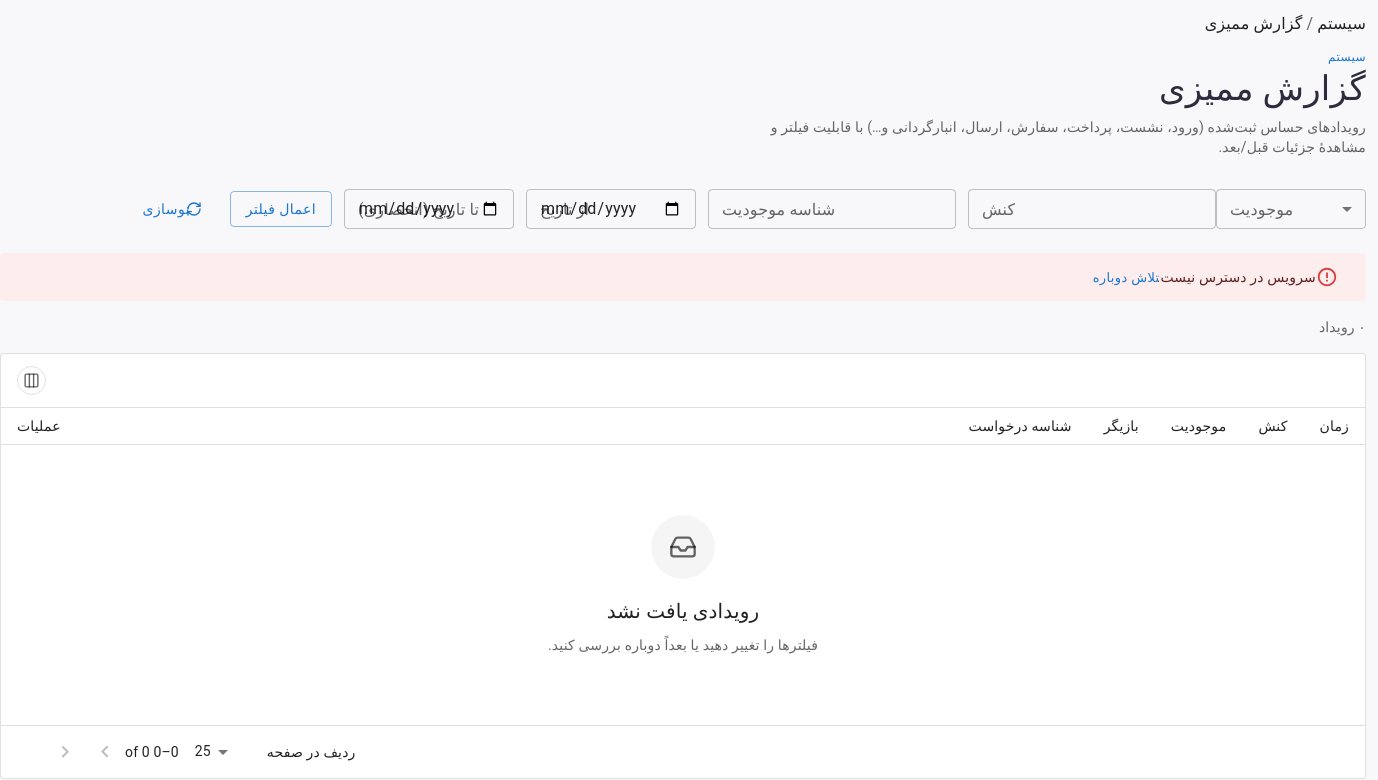
Test: AuditLogsView › surfaces a list failure with a retry that refetches
Expected: the text "سرویس در دسترس نیست." is shown, [1157,269,1316,285]
Click the button "تلاش دوباره": (1126, 278) [1088,263,1164,294]
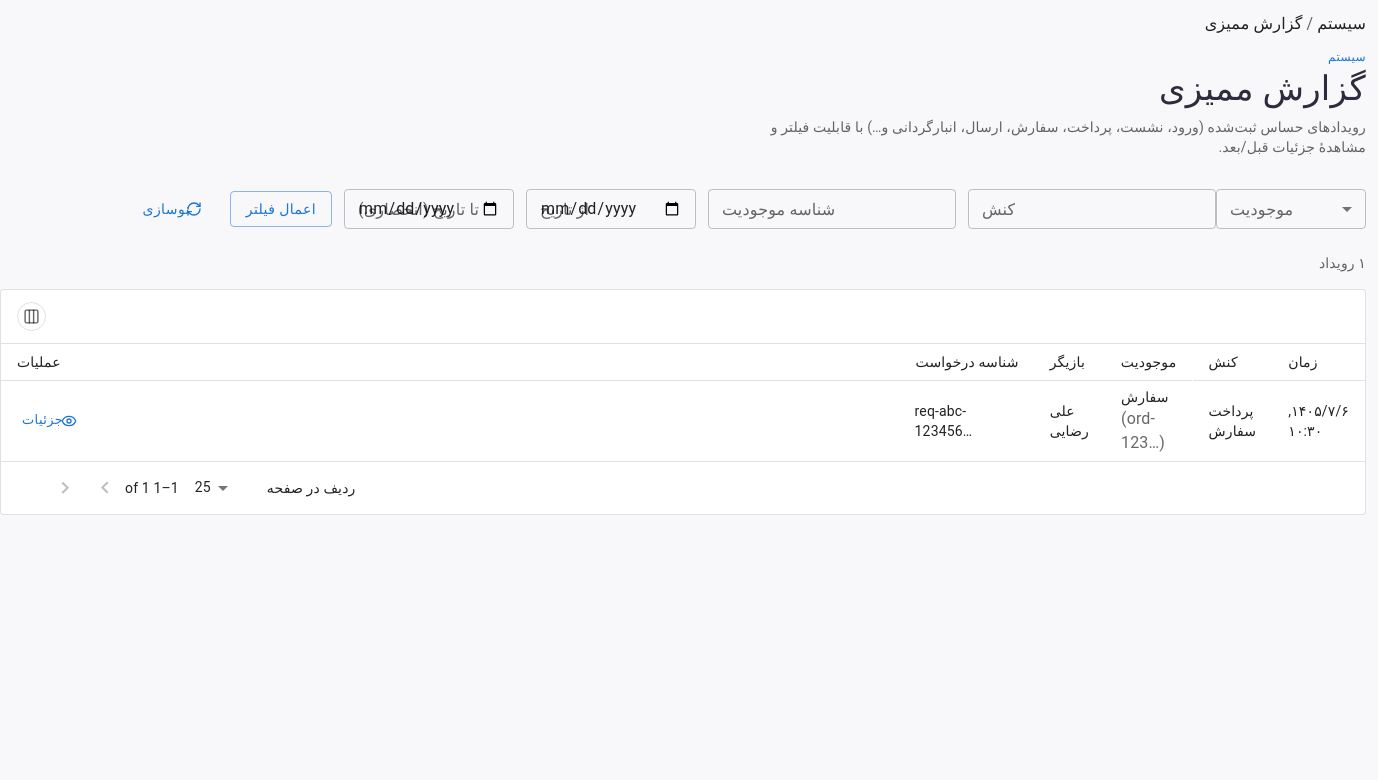
Expected: the text "پرداخت سفارش" is shown, [1208,401,1256,441]
